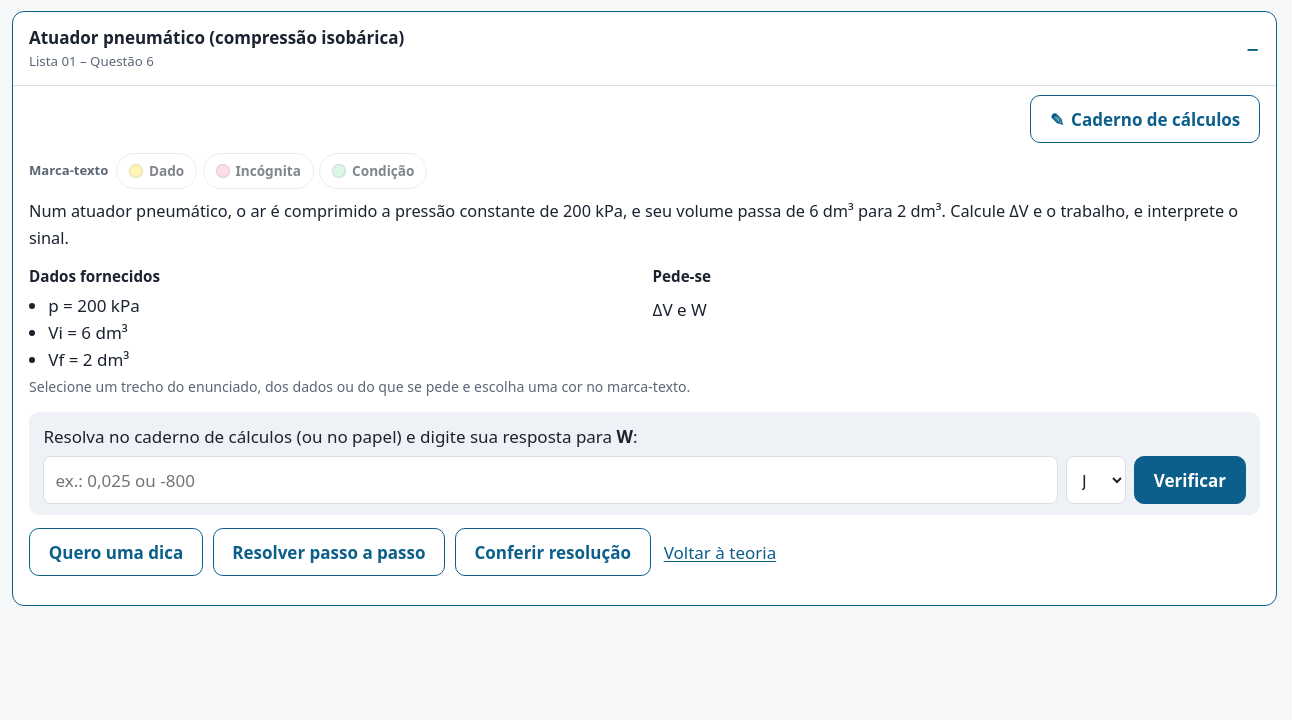
Test case: caderno de cálculos › avisa quando o navegador está sem espaço, sem perder o texto da tela
Click the button "✎ Caderno de cálculos" at (1145, 119), box [1030,95,1260,143]
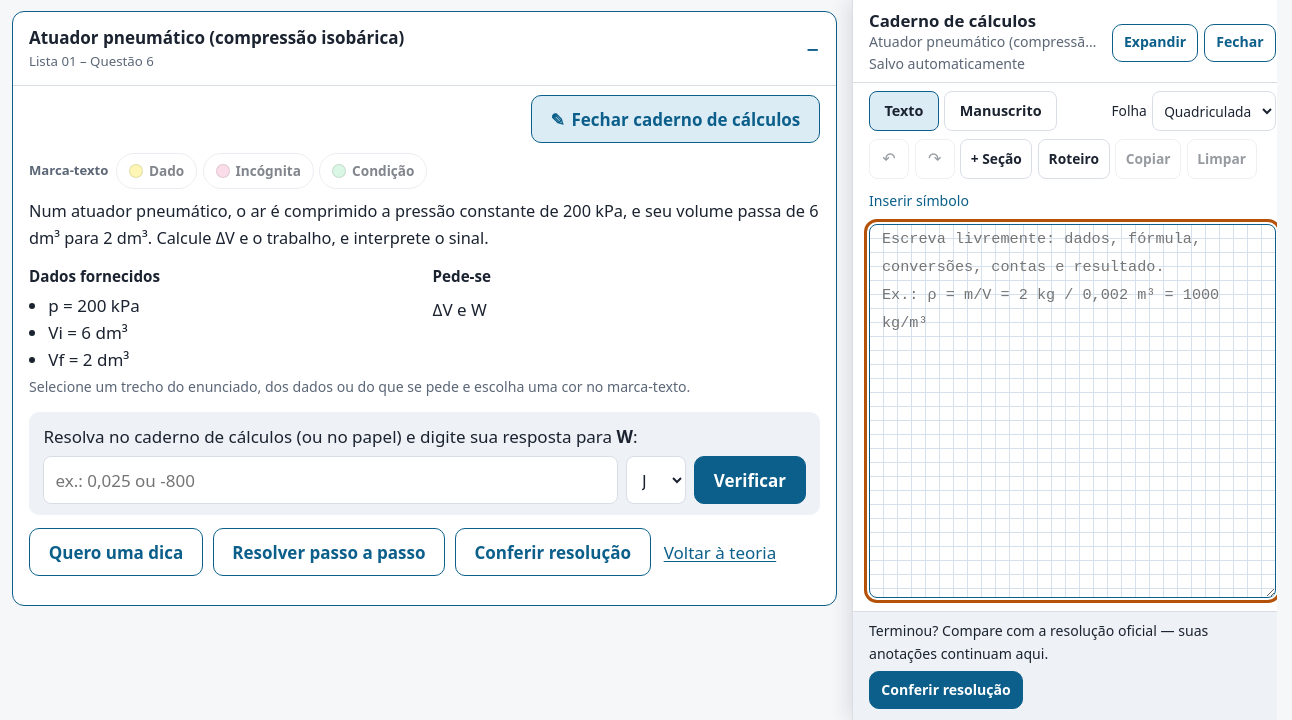
Type "conta" into the text box named "Anotações e cálculos" at (1072, 411), box [869,224,1276,598]
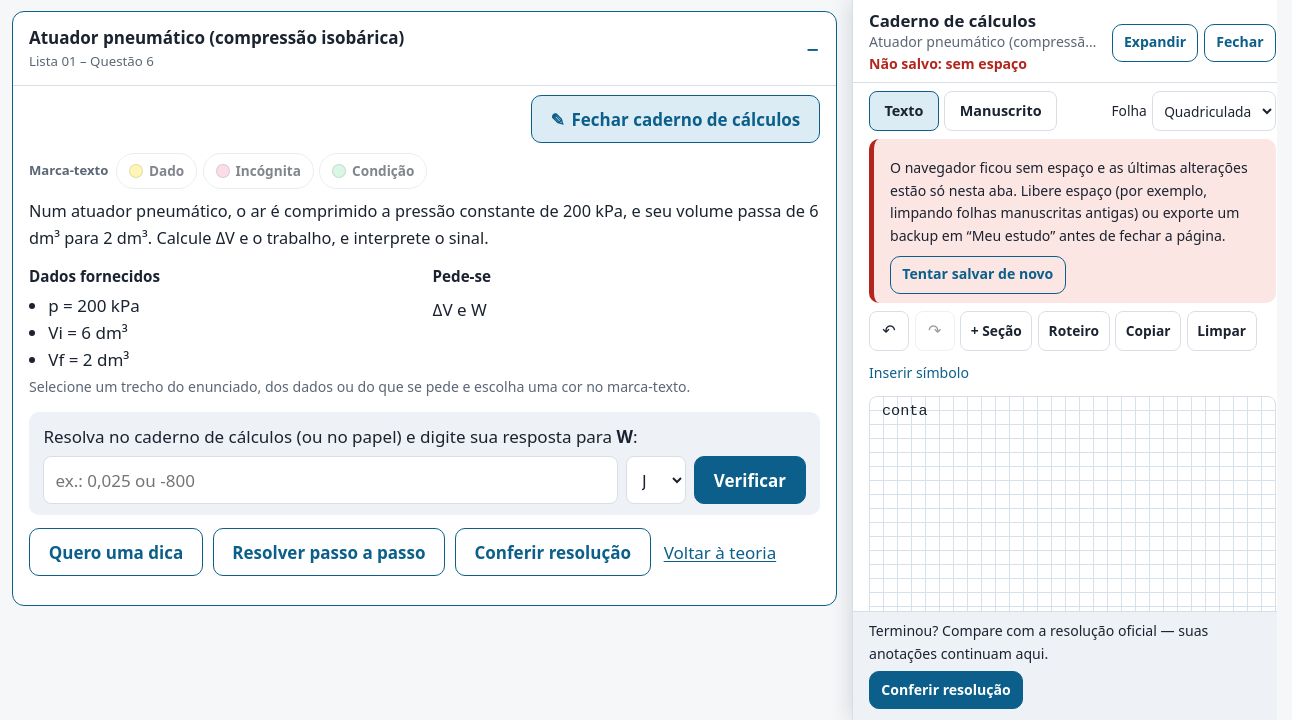
Now the message shows "sem espaço", box [890,158,1248,244]
Now the text "Não salvo: sem espaço" is shown, box [869,54,1027,73]
Click the button "Tentar salvar de novo" at (978, 274), box [890,256,1066,294]
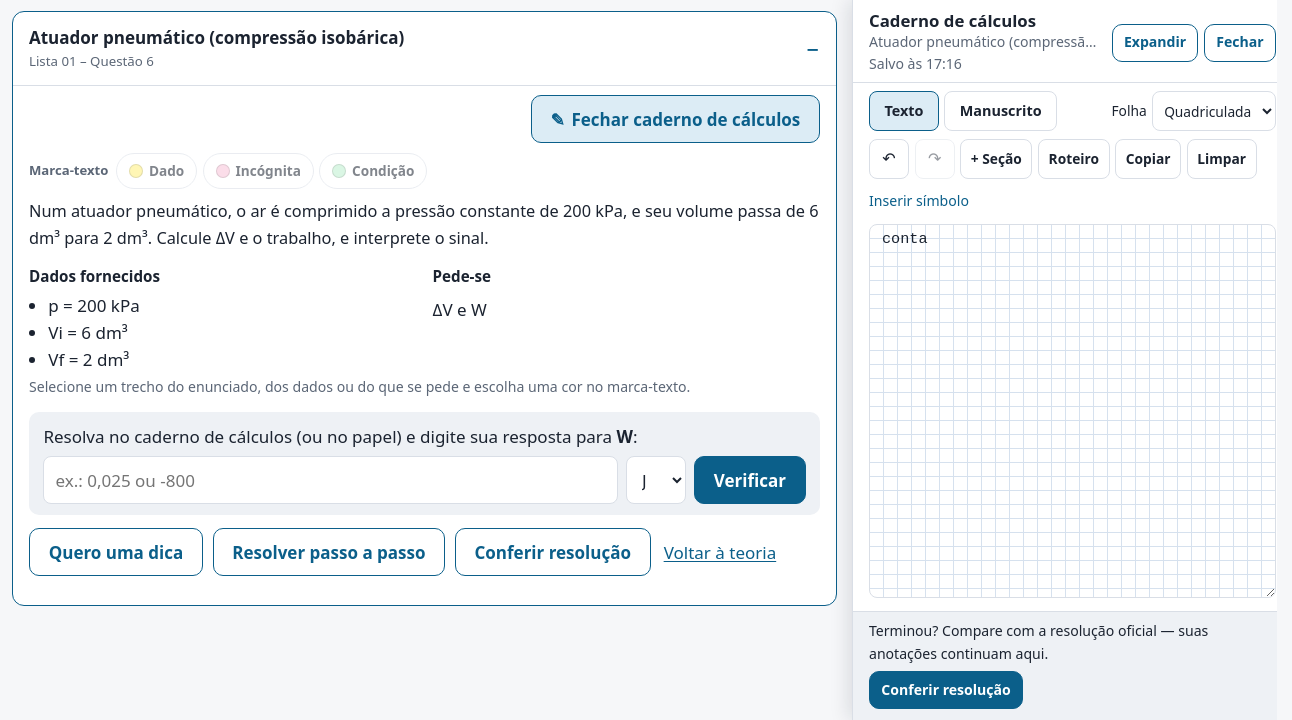
Now the message "O navegador ficou sem espaço e as últimas alterações estão só nesta aba. Libere" is gone
